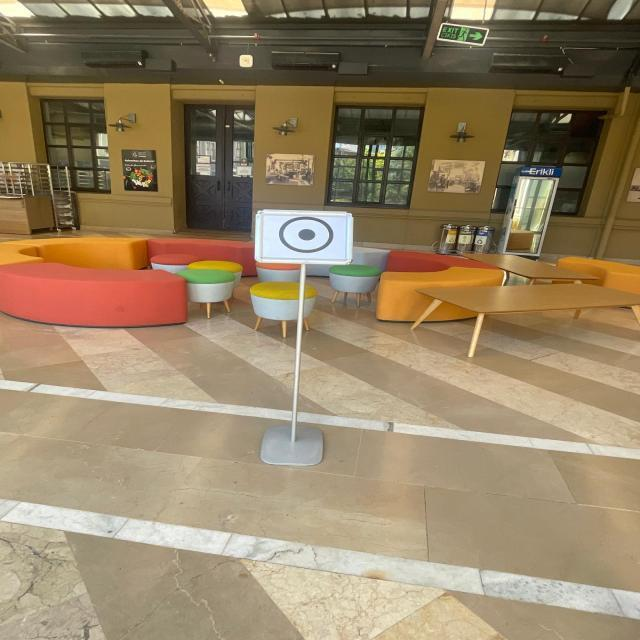Target: (245, 198, 365, 273)
inner: (294, 225, 322, 246)
